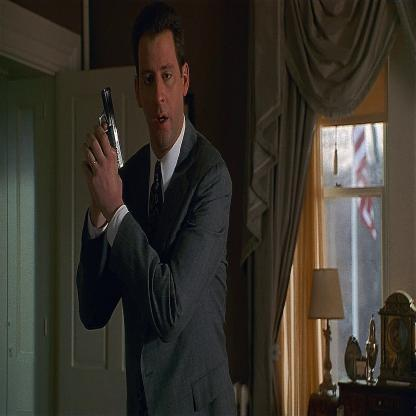gun: (89, 59, 132, 188)
